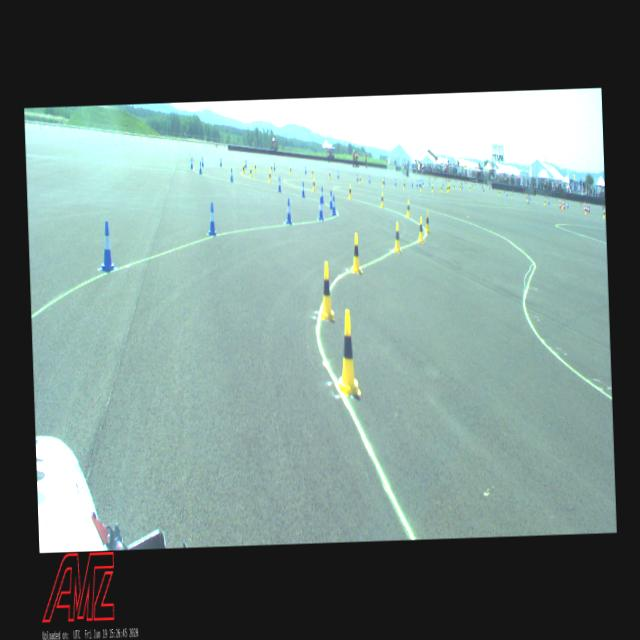blue_cone: (100, 222, 114, 270), (208, 200, 216, 236), (284, 197, 292, 224), (317, 197, 323, 220), (330, 193, 336, 214), (319, 185, 324, 204), (301, 180, 305, 198), (328, 190, 332, 208), (277, 175, 281, 192), (230, 167, 233, 182), (198, 160, 201, 172), (201, 156, 203, 167), (190, 158, 192, 168), (219, 156, 221, 166), (244, 158, 246, 168), (356, 172, 358, 182), (368, 174, 370, 183), (304, 164, 306, 173), (394, 178, 396, 186), (336, 170, 338, 178), (382, 176, 384, 184), (411, 180, 413, 187), (566, 201, 568, 208), (416, 180, 418, 187), (547, 198, 549, 205), (274, 161, 274, 170)
large_orange_cone: (587, 201, 589, 213), (583, 200, 585, 212), (562, 198, 564, 209), (558, 198, 560, 208)
yellow_cone: (334, 308, 361, 396), (318, 260, 334, 322), (350, 232, 362, 274), (392, 221, 401, 253), (417, 215, 424, 242), (424, 210, 430, 233), (405, 198, 410, 218), (380, 192, 384, 208), (348, 184, 352, 199), (249, 165, 252, 178), (268, 170, 271, 182), (358, 174, 361, 184), (419, 182, 422, 192), (328, 170, 331, 179), (312, 177, 314, 190), (242, 163, 244, 174), (254, 162, 256, 172), (382, 178, 384, 188), (289, 165, 291, 174), (602, 209, 604, 218), (311, 168, 313, 176), (431, 184, 433, 192), (270, 164, 272, 172), (402, 180, 404, 188), (440, 184, 442, 192), (446, 184, 448, 192), (452, 182, 454, 190), (544, 198, 546, 205), (448, 184, 449, 192)
